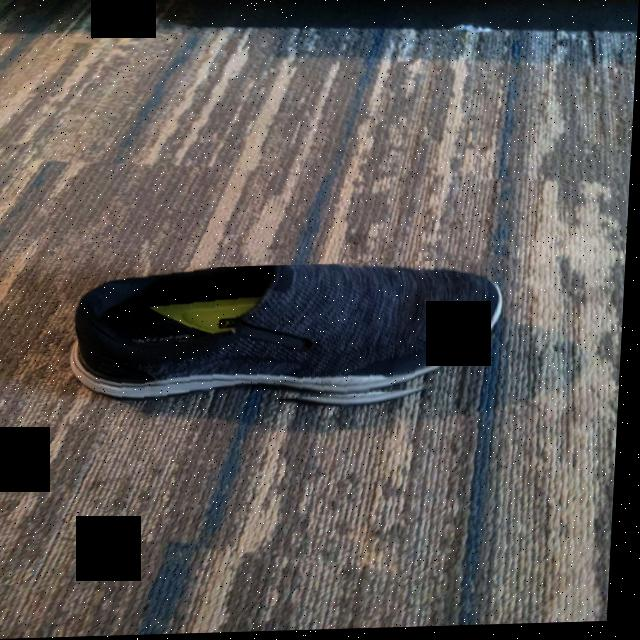shoe: (67, 262, 509, 416)
